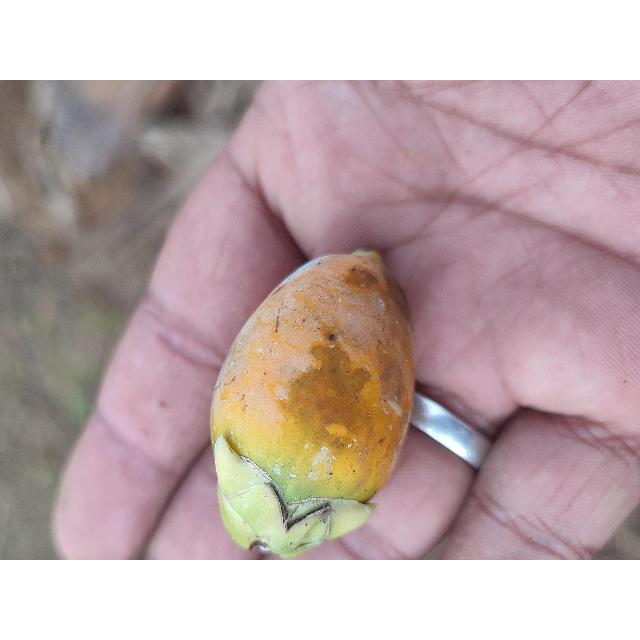good: (208, 251, 416, 560)
